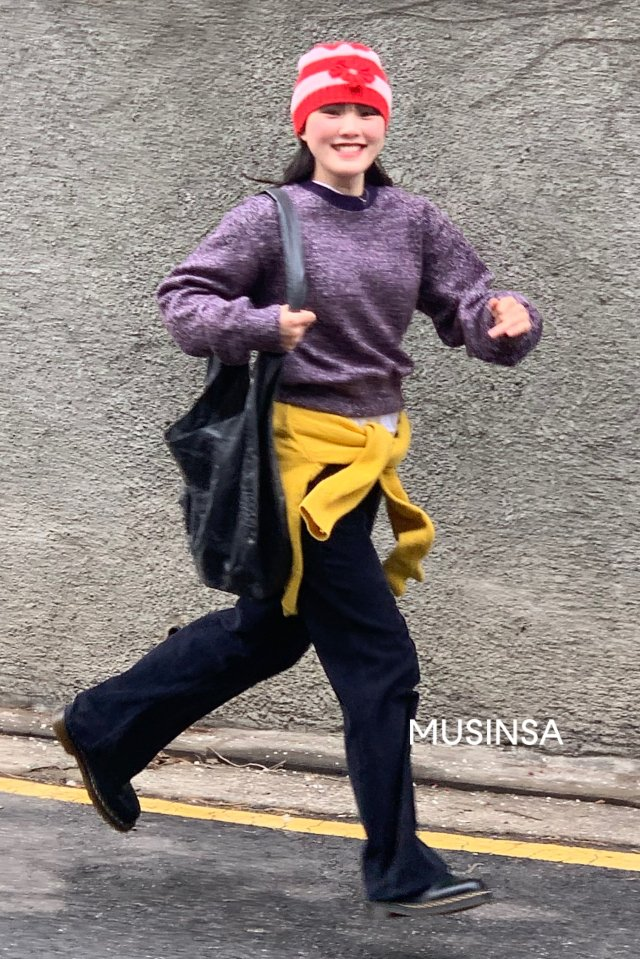Bag: (165, 179, 311, 607)
Beanie: (283, 34, 401, 135)
Pants: (62, 411, 445, 895)
Shoes: (52, 718, 498, 926)
Top: (148, 168, 555, 420)
